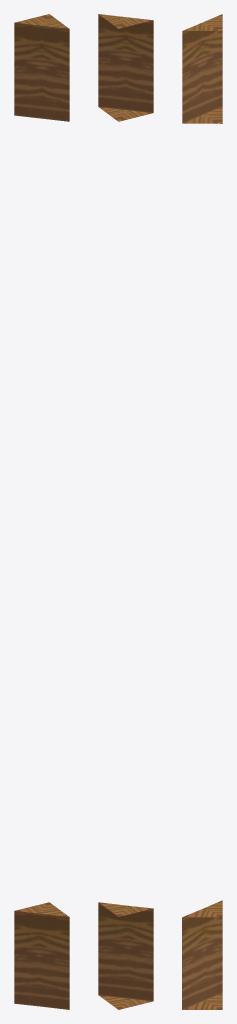
Rendered from Corner_Exterior_TopDown.gltf.
The picture shows the model from 3 angles, left to right: view 1: azimuth 30°, elevation 25°; view 2: azimuth 210°, elevation 25°; view 3: azimuth 270°, elevation 25°; orthographic projection.
Parts seen in each view (by area): view 1: Corner_Exterior_TopDown; view 2: Corner_Exterior_TopDown; view 3: Corner_Exterior_TopDown.
Part boxes in pixels (<box>): Corner_Exterior_TopDown: <box>14,14,69,1009</box>; Corner_Exterior_TopDown: <box>98,14,153,1009</box>; Corner_Exterior_TopDown: <box>182,14,222,1009</box>.
Bounding box in the file's own units: 0.0929 × 2.47 × 0.0929.
Materials: 1 (1 with a texture image).
